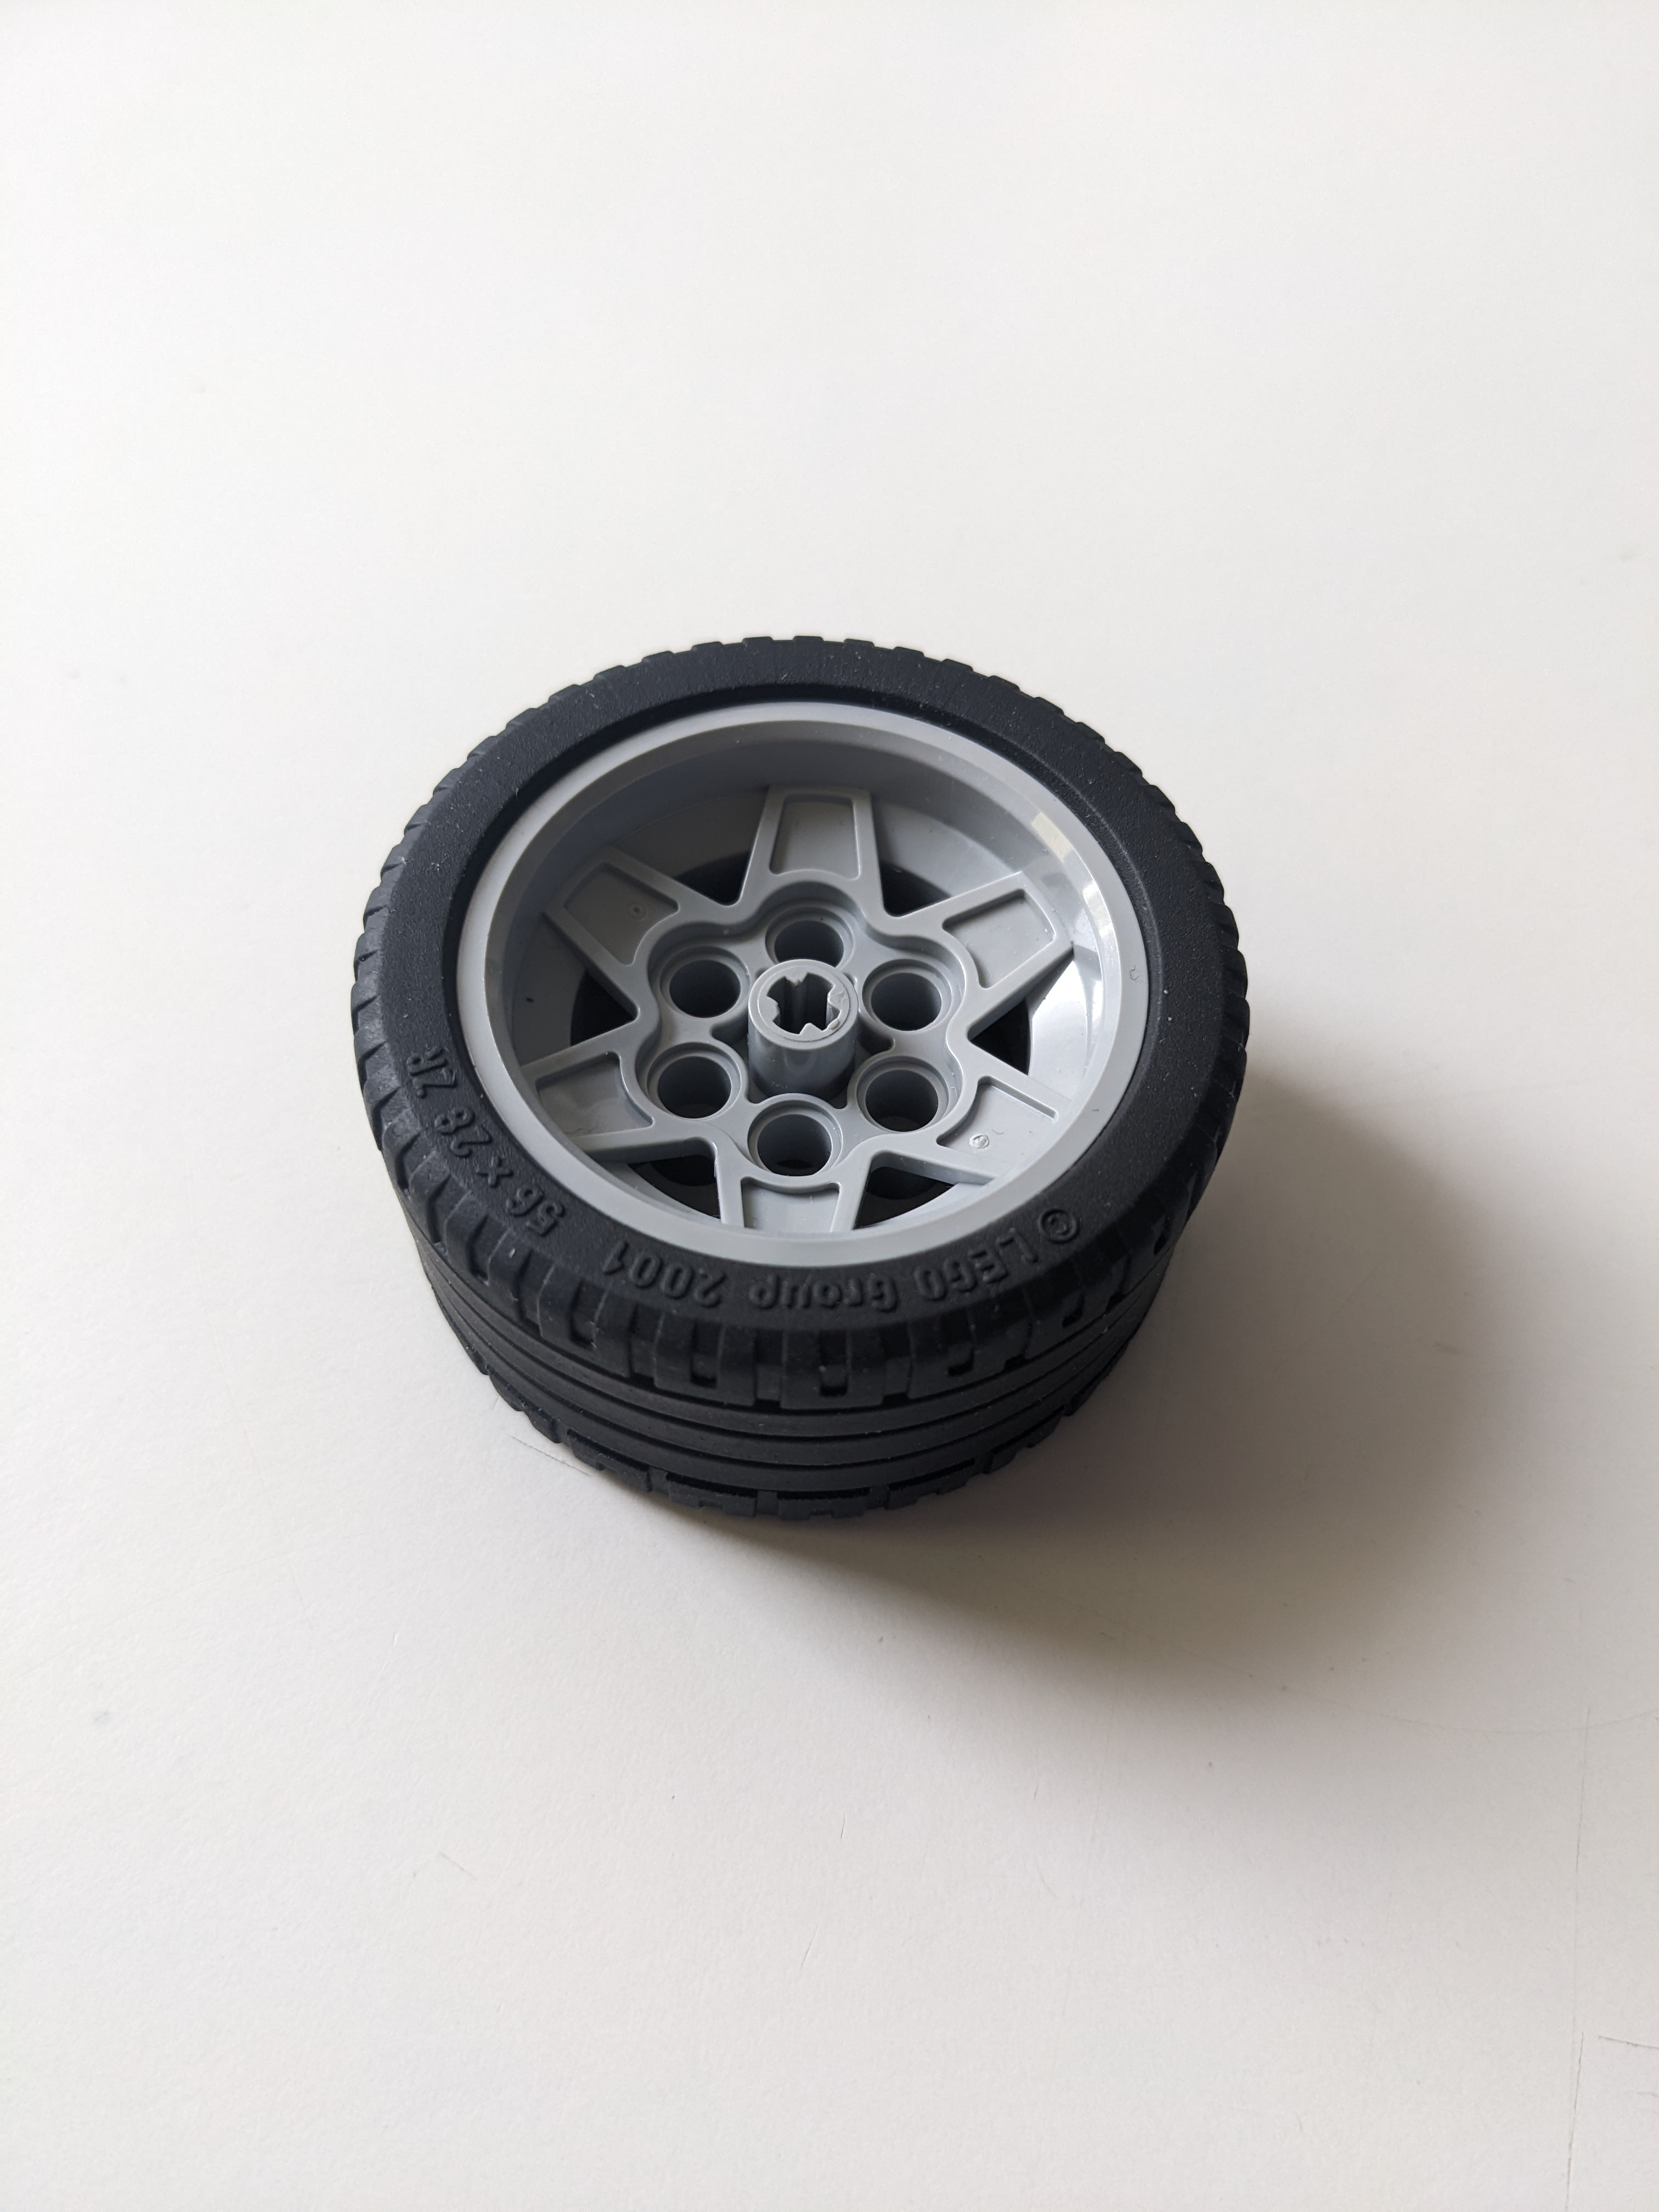Rad: (336, 617, 1284, 1559)
